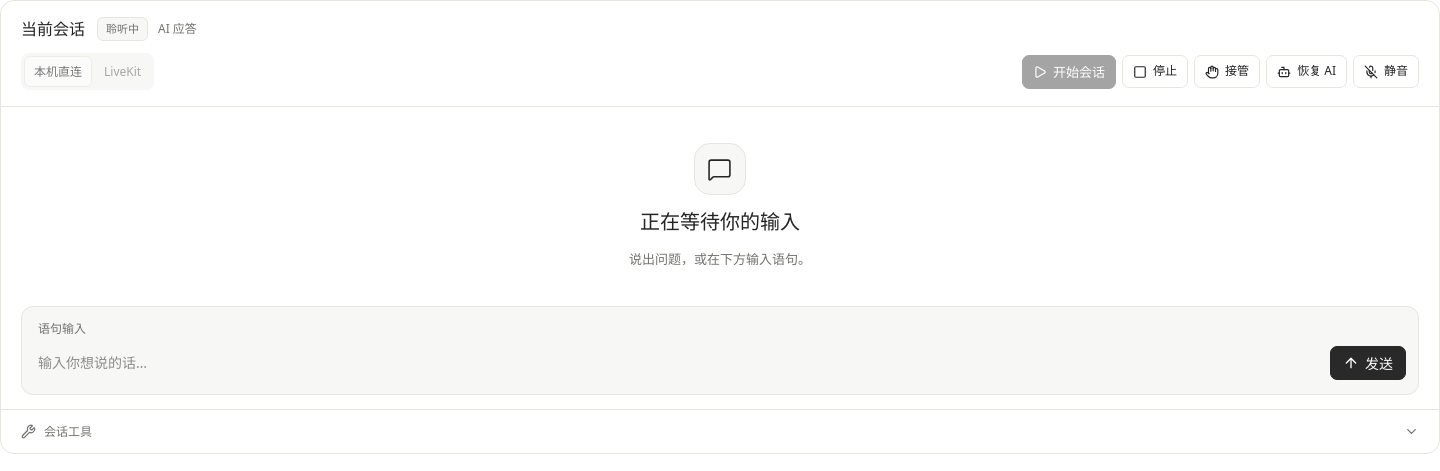
Test: WorkspaceSession › stops the session and returns to a completed phase
Expected: the text "聆听中" is shown, [97, 17, 148, 41]
Click the button "停止" at coordinates (1155, 72), box [1122, 55, 1188, 88]
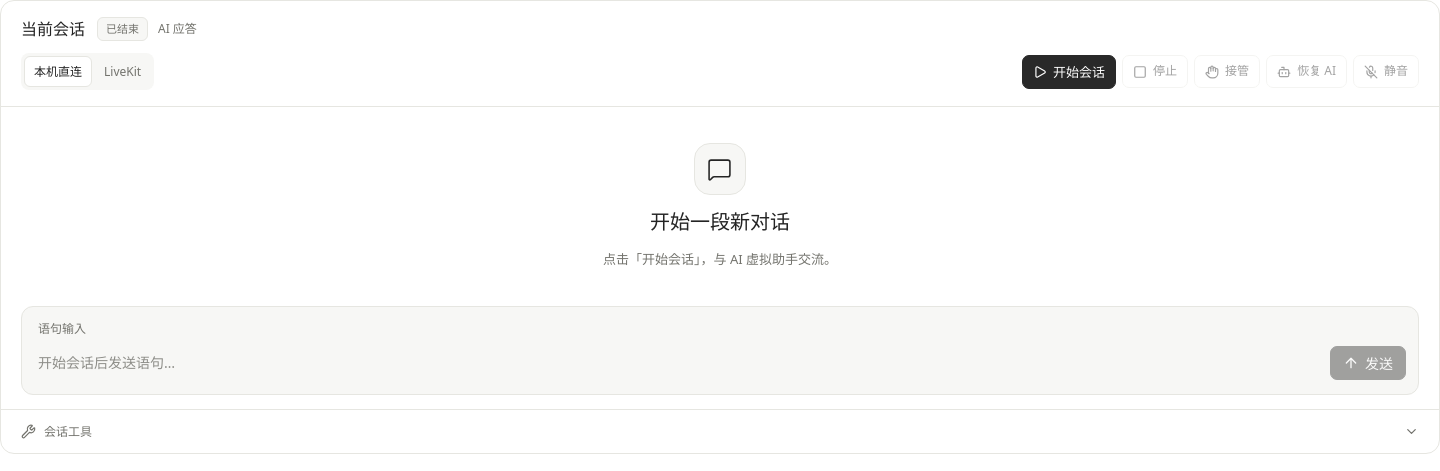
Result: the text "已结束" is shown at [97, 17, 148, 41]
